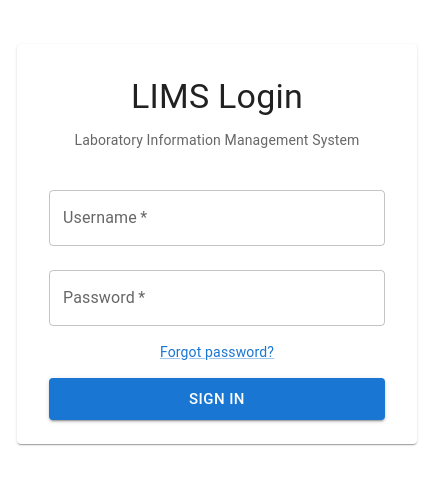
Test: Login › shows error message on login failure
Type "testuser" into the field labelled "Username *" at x=217, y=218, box [49, 190, 385, 246]
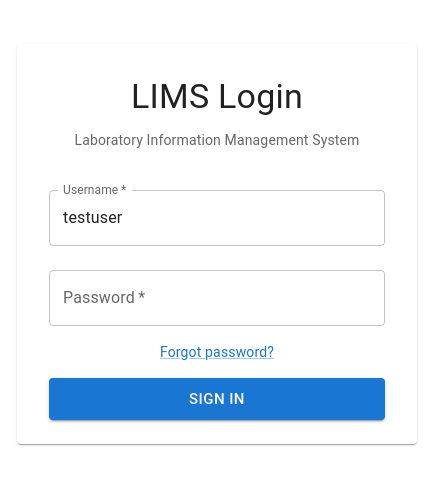
Type "wrongpassword" into the password field labelled "Password *" at x=217, y=298, box [49, 270, 385, 326]
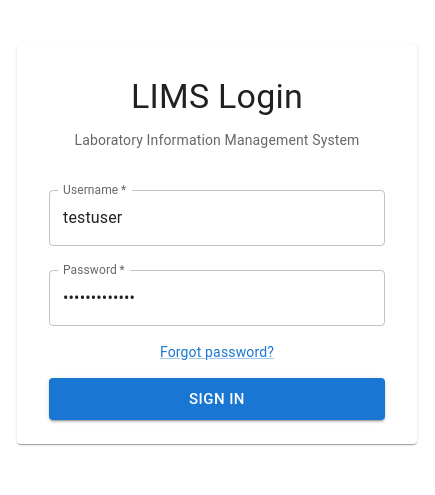
Click the button "Sign In" at x=217, y=399, box [49, 378, 385, 420]
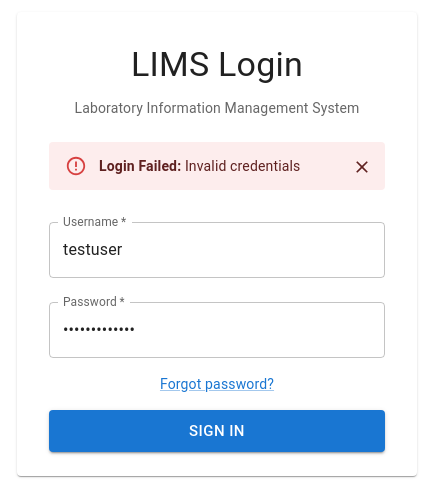
Expected: the text "Login Failed:" is shown, [99, 158, 181, 174]
